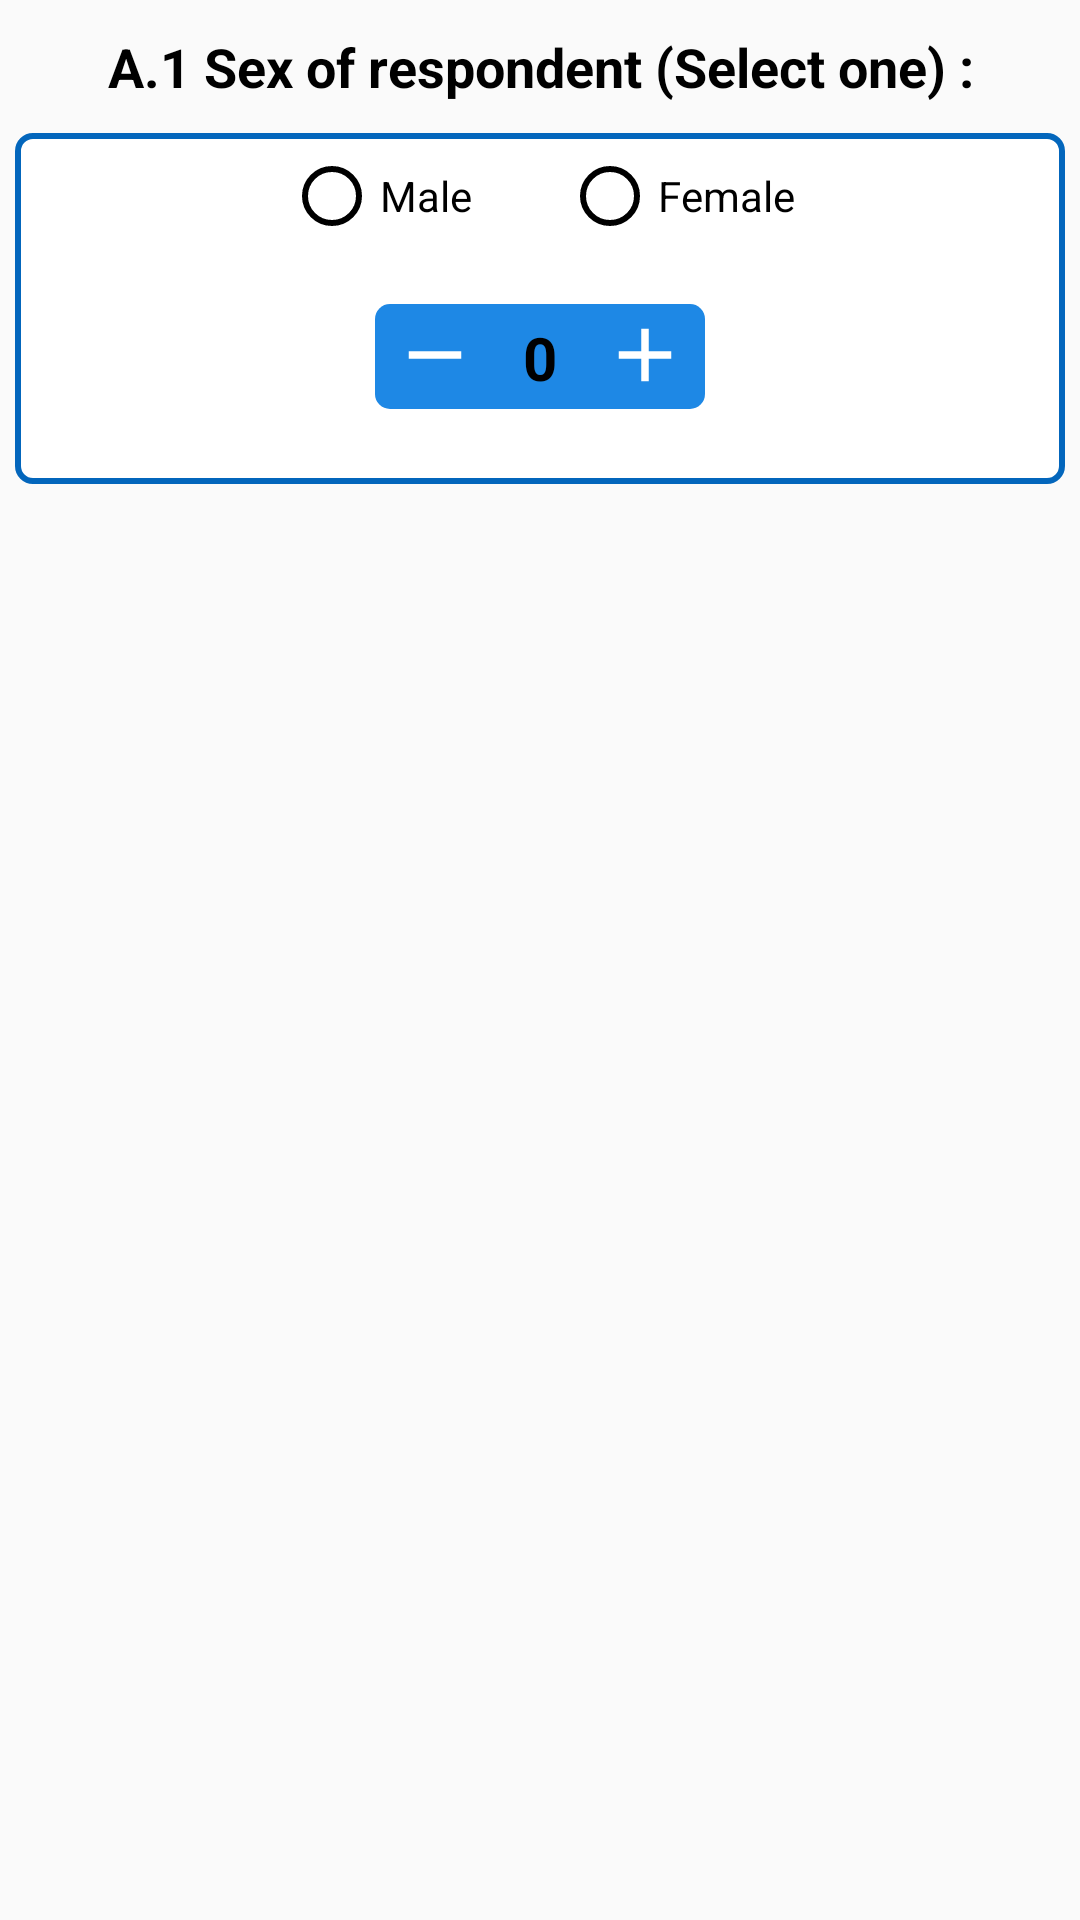

Icons on this 1080x1920 Android screen, each with the point to tap as [x,y]:
add: [645,355]
